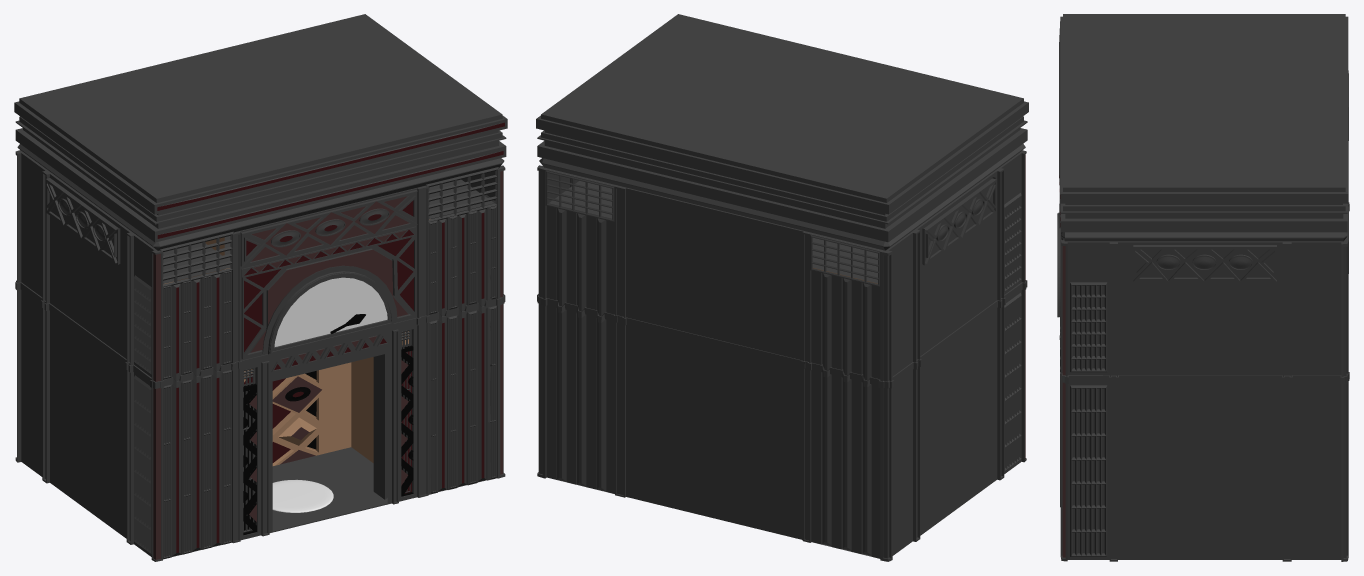
File: Door un.fbx
3 views of the same model, side by side, from view 1: azimuth 30°, elevation 25°; view 2: azimuth 150°, elevation 25°; view 3: azimuth 270°, elevation 25° (orthographic). The views are drawn at different scales.
Parts seen in each view (by area): view 1: Cube.004, Cube.001, Cube.002, door-l.001, door-r, Rug; view 2: Cube.004; view 3: Cube.004.
Part boxes in pixels (x1,y1,x2,y2): Cube.004: [14, 14, 507, 561]; Cube.001: [163, 219, 430, 465]; Cube.002: [274, 277, 387, 346]; door-l.001: [243, 383, 256, 535]; door-r: [401, 345, 413, 496]; Rug: [272, 479, 333, 512]; Cube.004: [536, 14, 1028, 561]; Cube.004: [1057, 14, 1349, 561].
Bounding box in the file's own units: 408 × 393 × 279.
